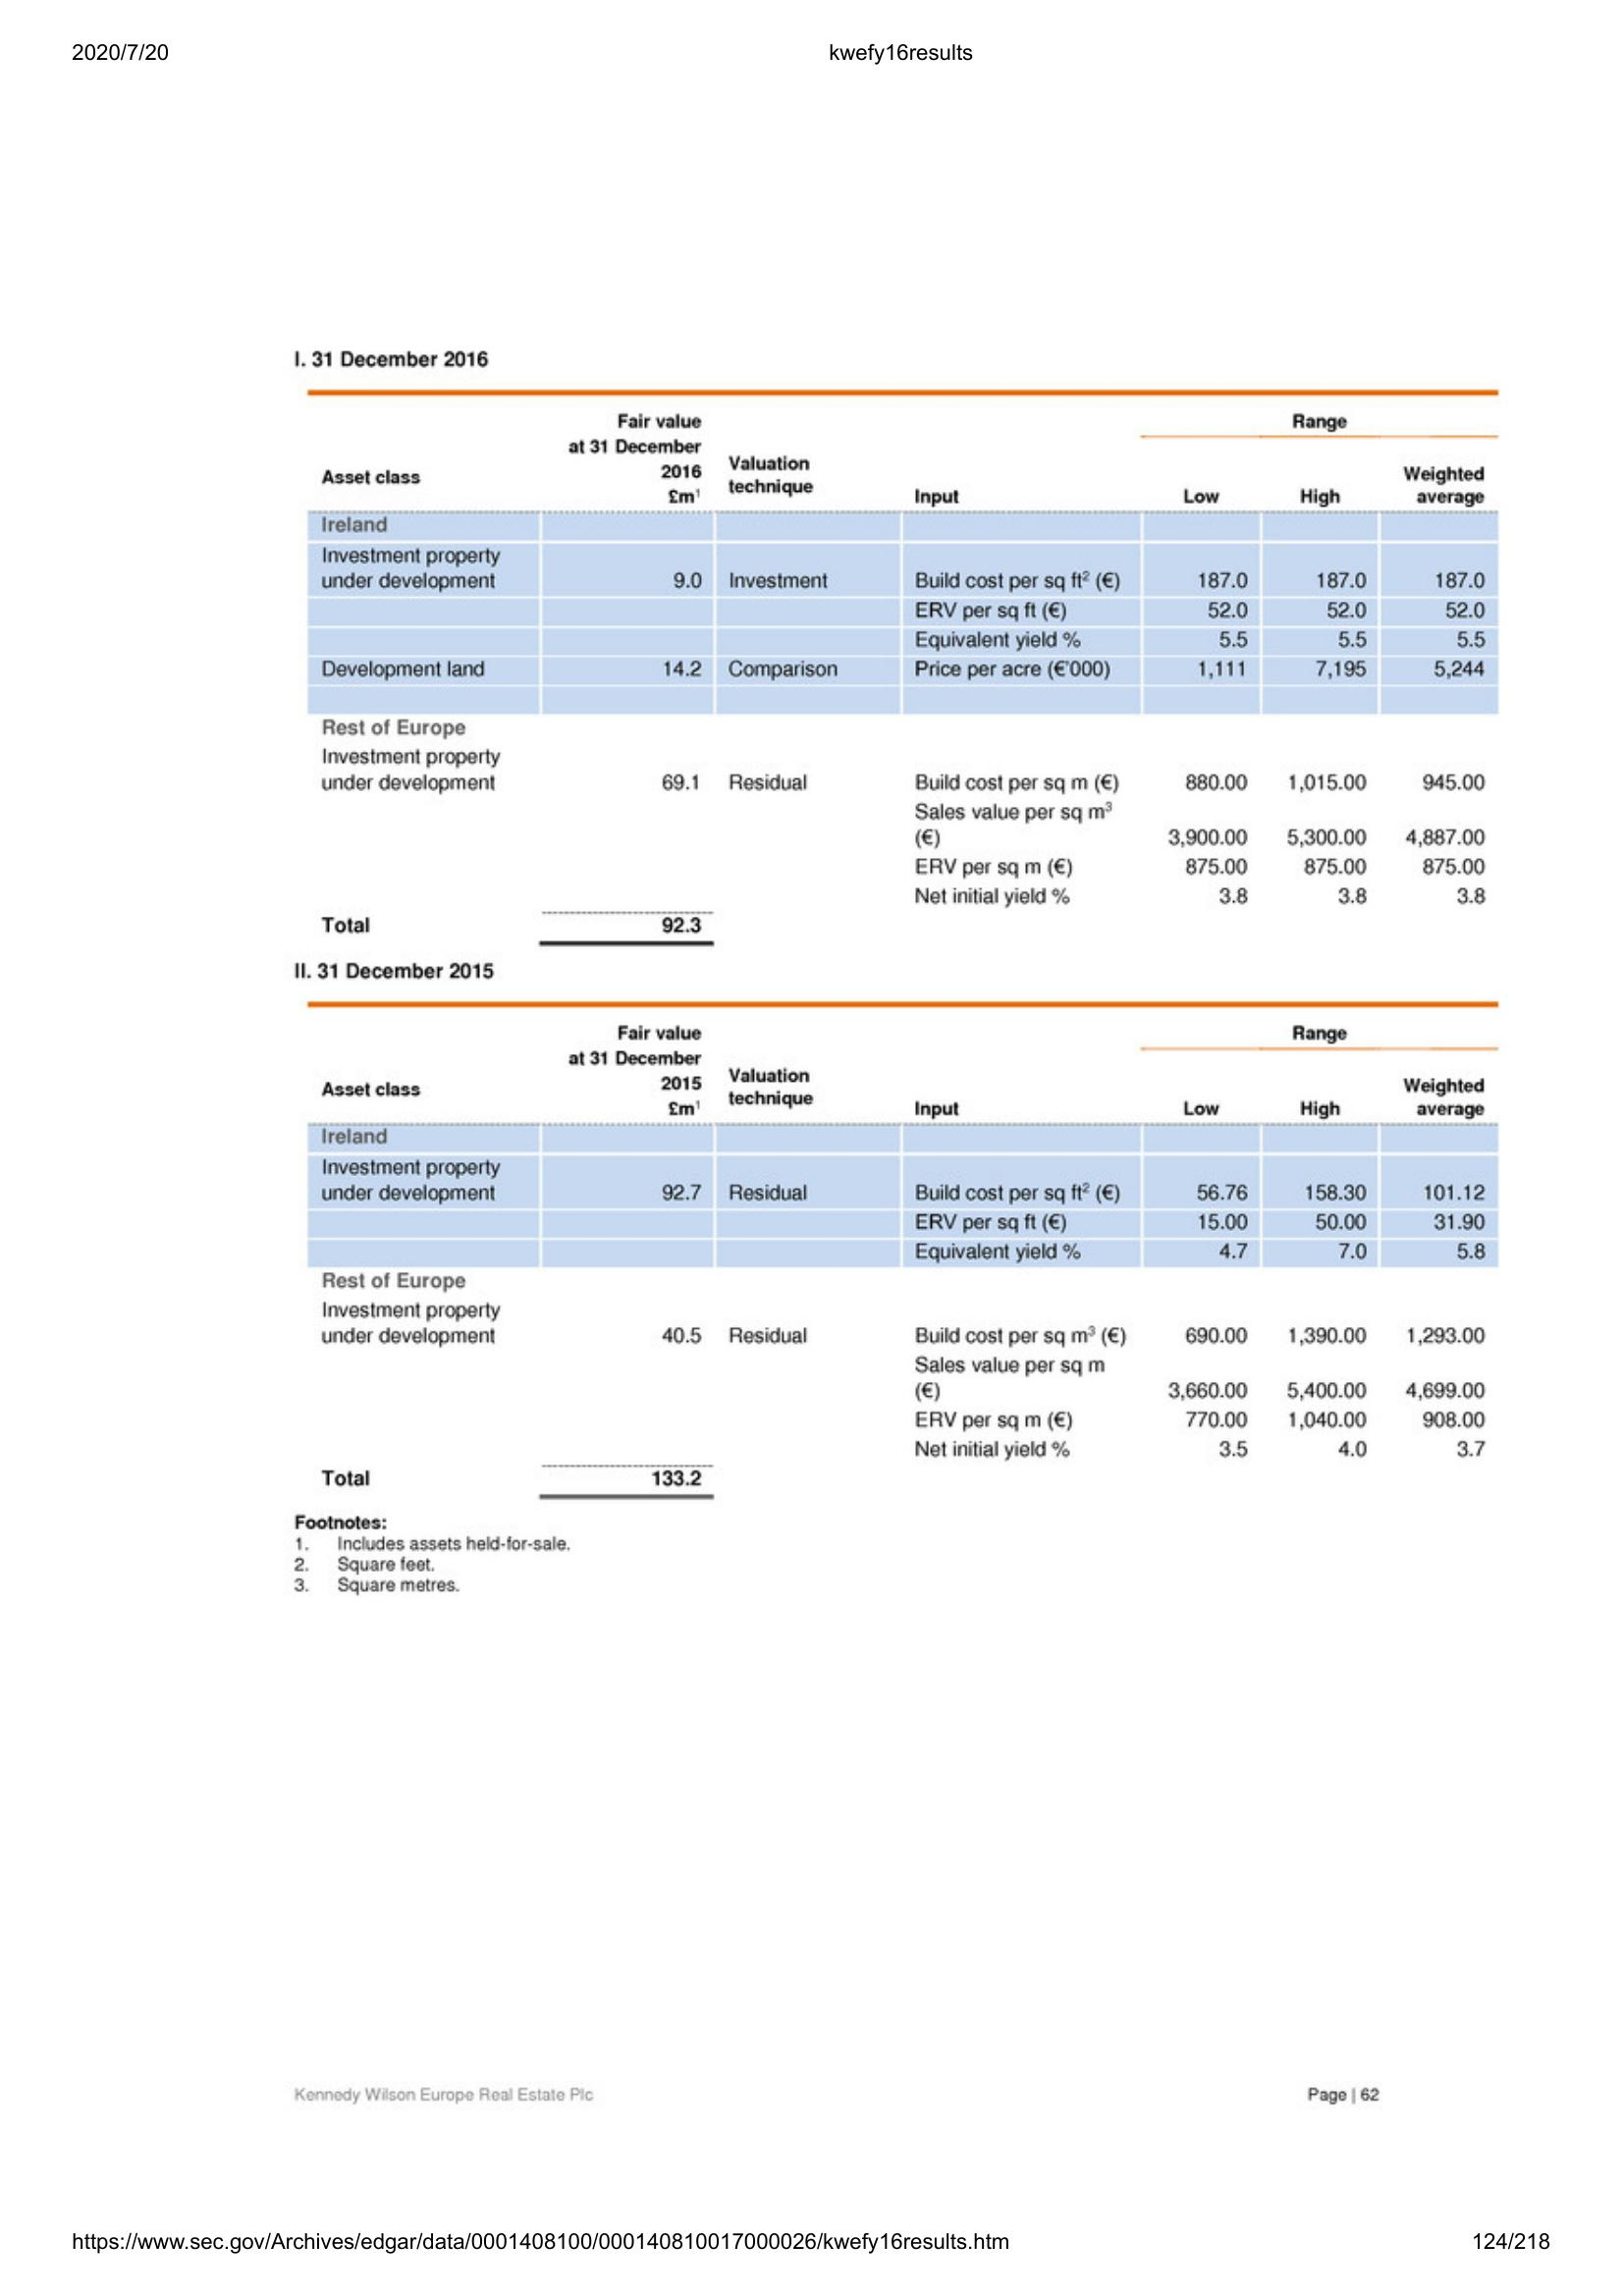table: (302, 381, 1502, 951), (297, 979, 1504, 1504)
